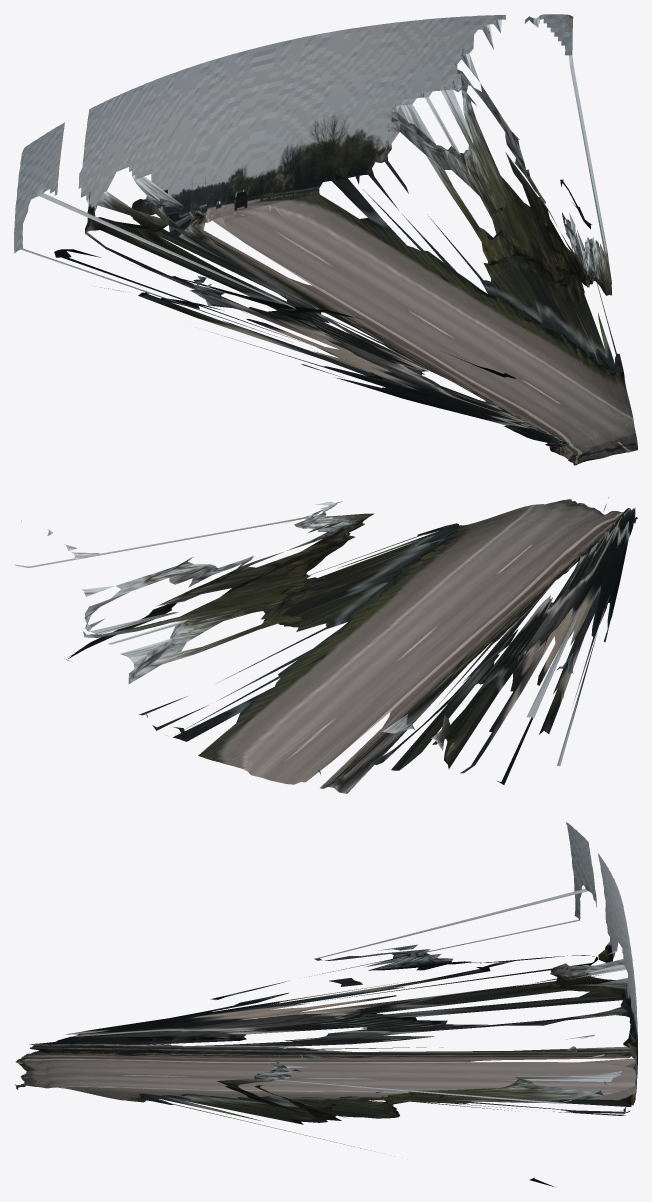
3 renders of one model, top to bottom at view 1: azimuth 30°, elevation 25°; view 2: azimuth 150°, elevation 25°; view 3: azimuth 270°, elevation 25°, orthographic. The views are drawn at different scales.
Parts seen in each view (by area): view 1: defaultobject; view 2: defaultobject; view 3: defaultobject.
Boxes of the visible parts, x1,y1,x2,y2 form: defaultobject: [14, 14, 637, 465]; defaultobject: [14, 497, 637, 793]; defaultobject: [14, 822, 637, 1186].
Size of the model in its own units: 41 by 12.09 by 44.7.
Materials: 1 (1 with a texture image).
